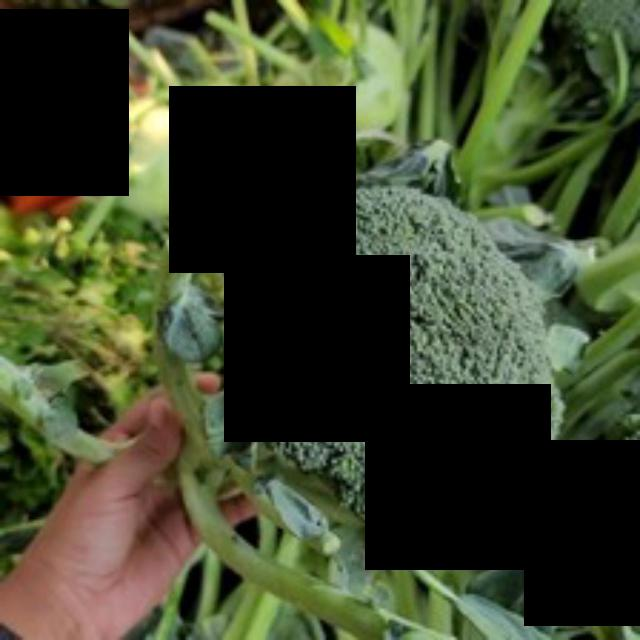broccoli: (190, 162, 568, 570)
